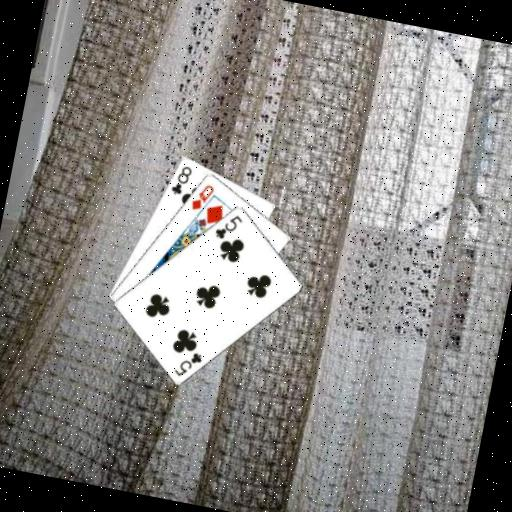5C: (211, 208, 245, 244), (171, 346, 205, 381)
8C: (168, 161, 195, 198)
QD: (188, 179, 217, 215)
